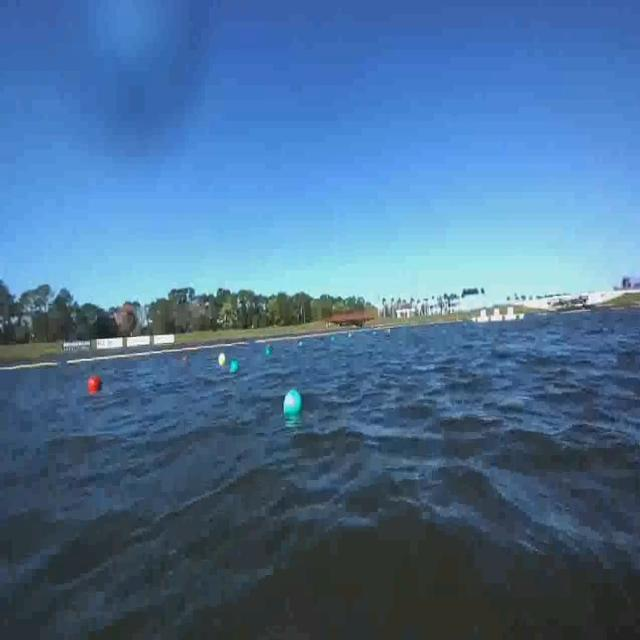green-buoy: (284, 392, 302, 419), (231, 358, 241, 373)
red-buoy: (89, 377, 104, 394)
yellow-buoy: (218, 352, 227, 367)
